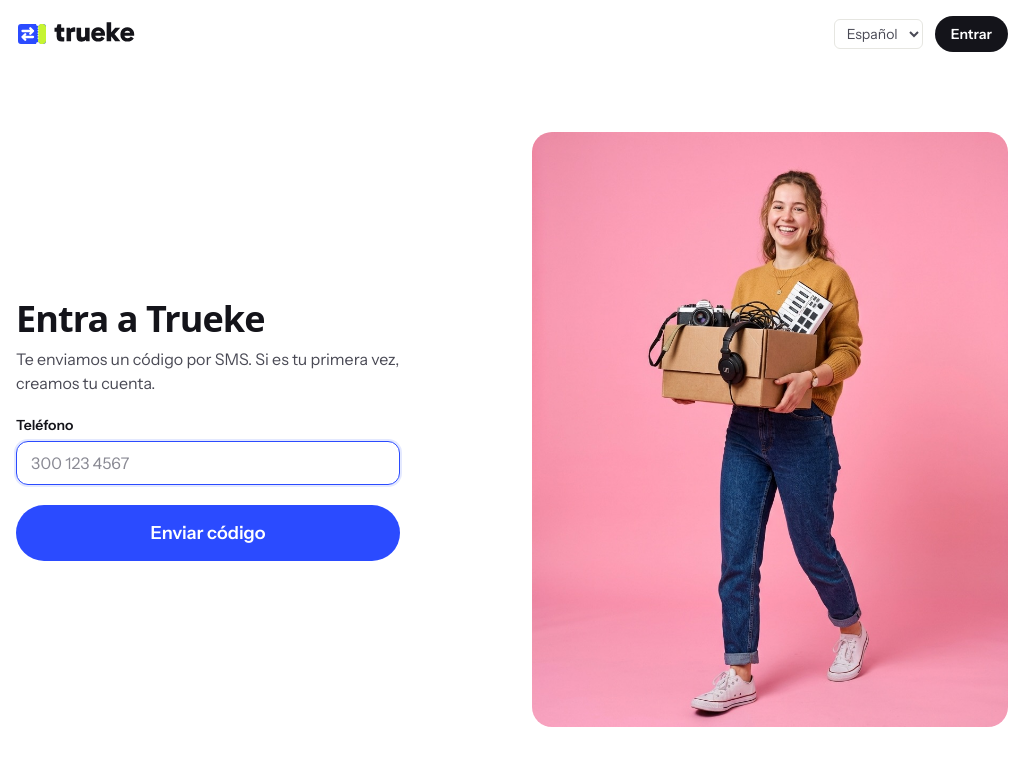
entrar › muestra el error del servidor en el campo
Type "123 4567" into the field labelled "Teléfono" at x=208, y=462, box [16,440,400,484]
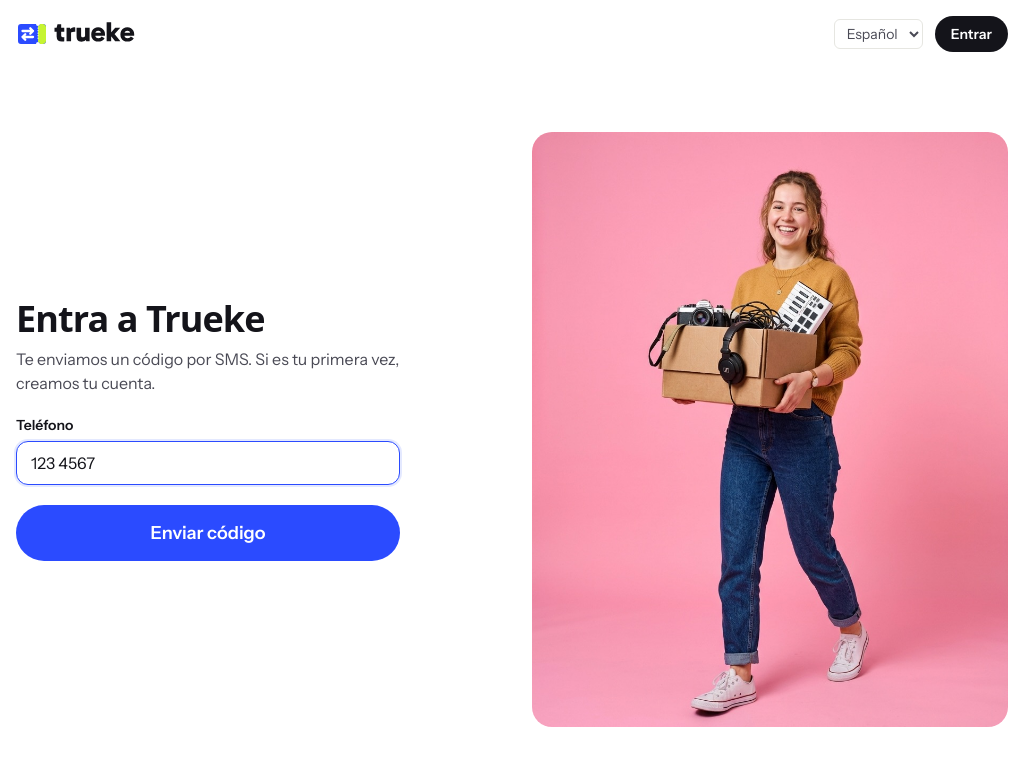
Click the button "Enviar código" at x=208, y=532, box [16,504,400,560]
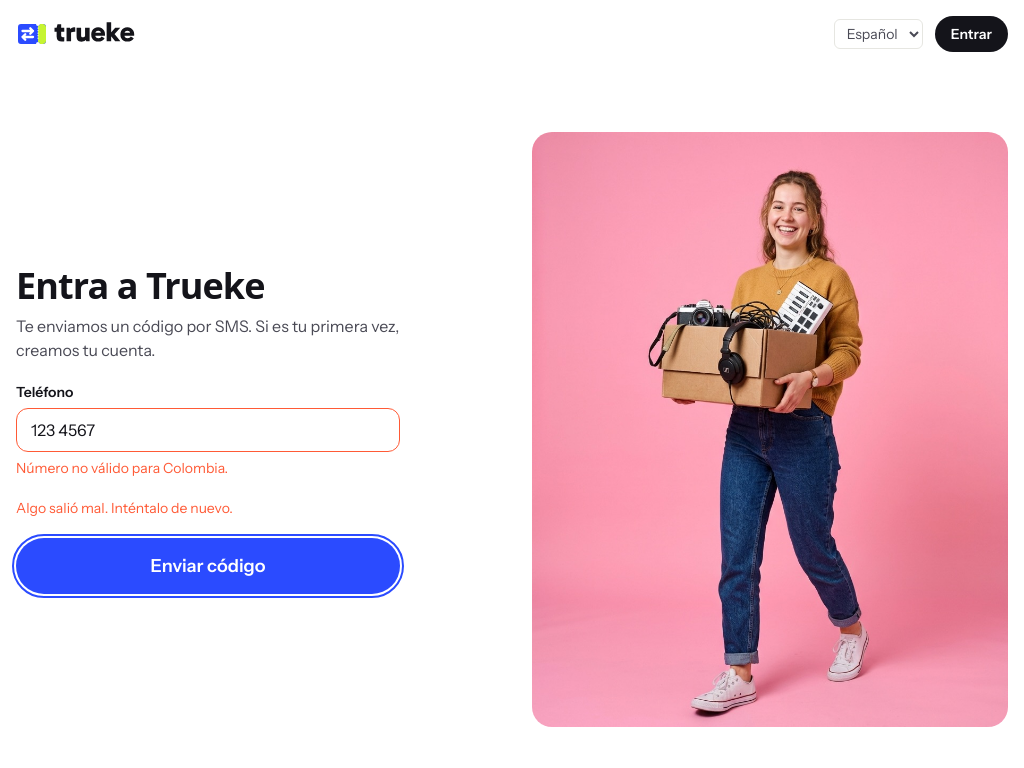
Check: the text "Número no válido para Colombia." is shown, box [16,458,228,476]
